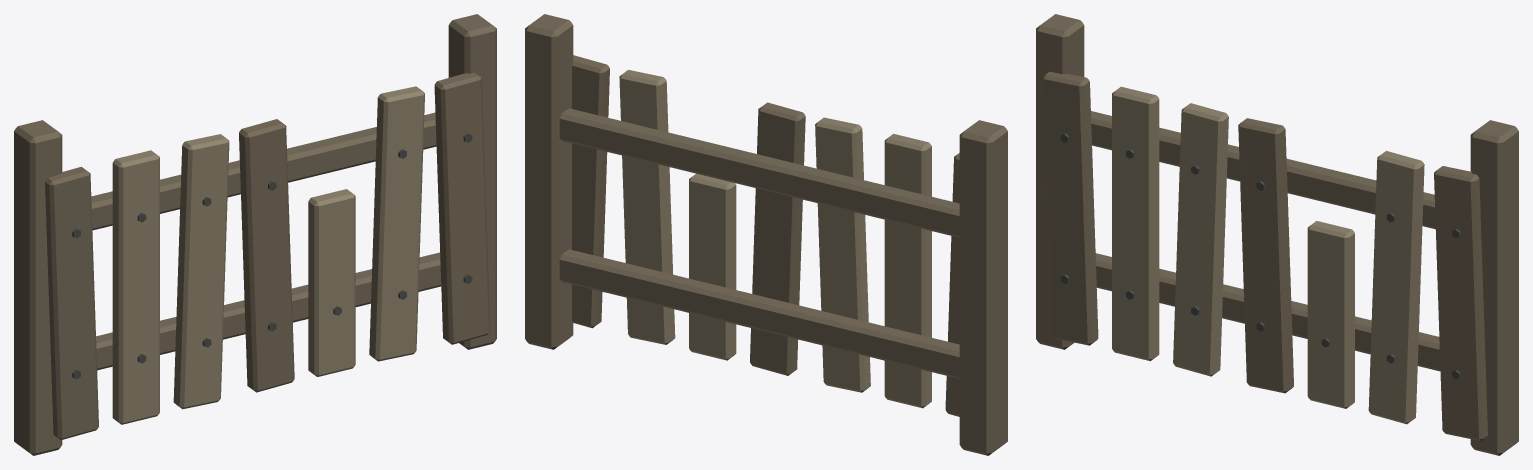
File: fence.glb
3 views of the same model, side by side, from view 1: azimuth 30°, elevation 25°; view 2: azimuth 150°, elevation 25°; view 3: azimuth 330°, elevation 25° (orthographic).
Visible parts, largest first — view 1: fence; view 2: fence; view 3: fence.
Boxes of the visible parts, x1,y1,x2,y2 form: fence: (14,14,496,455); fence: (525,14,1007,455); fence: (1036,14,1518,455).
Size of the model in its own units: 2.15 by 1.4 by 0.22.
